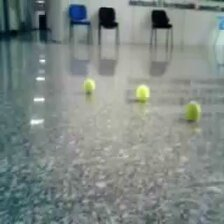tennis: (184, 100, 201, 120), (134, 84, 150, 100), (83, 78, 94, 93)
